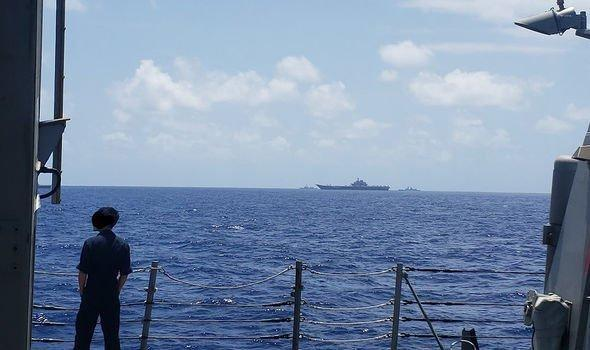MIL_Ship: (314, 175, 393, 193)
